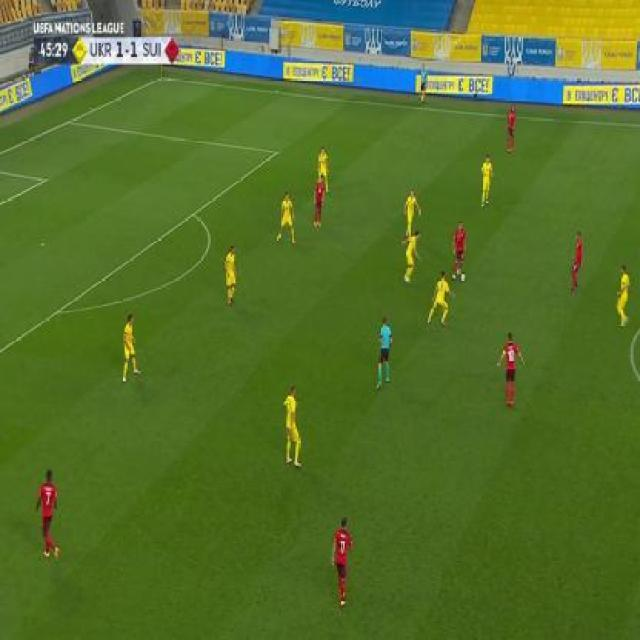ball: (460, 272, 466, 283)
player: (33, 467, 59, 561), (329, 514, 354, 610), (496, 330, 525, 406), (281, 381, 303, 469), (426, 270, 454, 327), (119, 312, 139, 383), (375, 317, 394, 388), (613, 263, 632, 328), (275, 191, 297, 247), (401, 188, 421, 242), (568, 229, 584, 295), (450, 219, 467, 281), (222, 244, 238, 307), (402, 228, 421, 281), (478, 154, 494, 208), (312, 173, 326, 229), (316, 145, 330, 193), (416, 62, 429, 108), (506, 103, 517, 156)
